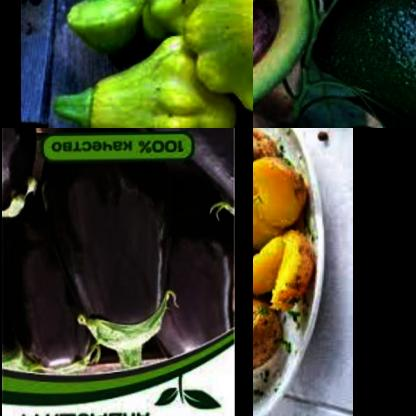avocado: (306, 0, 416, 125), (253, 0, 325, 128)
eggplant: (48, 159, 167, 400), (3, 201, 98, 382), (146, 187, 232, 381), (137, 128, 235, 226), (3, 128, 76, 238)
potato: (253, 171, 314, 296), (253, 128, 276, 218), (253, 288, 279, 362)
squash-patisson: (48, 38, 220, 128), (176, 0, 253, 112), (62, 0, 146, 68), (131, 0, 226, 57)
